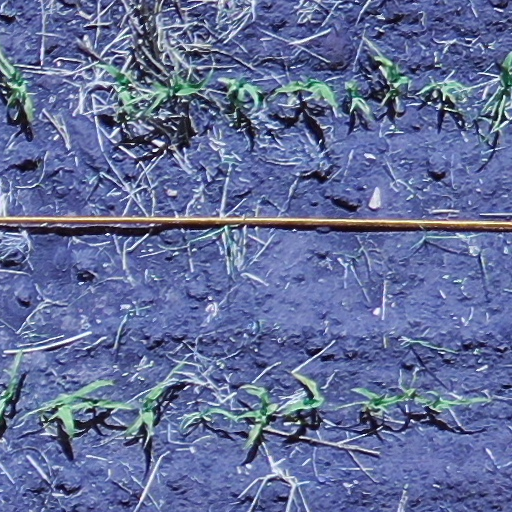planta: (32, 379, 129, 439), (399, 377, 493, 411), (233, 383, 279, 451), (144, 70, 212, 114), (270, 78, 338, 118), (481, 50, 511, 136), (124, 381, 166, 439), (92, 63, 136, 115), (372, 55, 412, 108), (282, 373, 324, 415), (217, 76, 264, 110), (353, 388, 416, 411), (414, 81, 468, 104), (343, 79, 373, 120)
